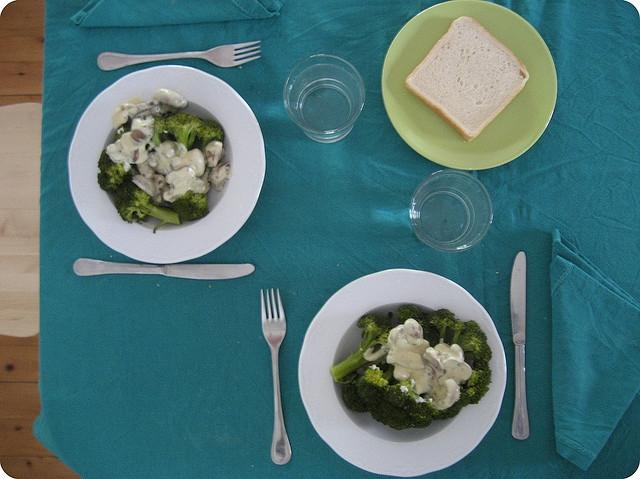broccoli: (330, 314, 392, 382), (114, 172, 181, 233), (370, 380, 441, 430), (356, 364, 394, 406), (164, 111, 204, 148), (461, 358, 492, 404), (342, 370, 373, 414), (98, 150, 128, 194), (172, 190, 210, 222), (427, 309, 456, 342), (198, 119, 225, 148), (397, 304, 428, 327), (388, 376, 400, 386)
mushroom: (111, 95, 158, 129), (386, 348, 426, 381), (147, 141, 187, 174), (437, 358, 472, 386), (171, 148, 206, 176), (432, 380, 462, 410), (131, 168, 157, 197), (166, 166, 196, 189), (203, 140, 226, 168), (155, 89, 188, 108), (403, 318, 424, 346), (422, 347, 446, 371), (388, 324, 410, 349), (132, 130, 147, 142), (133, 148, 139, 162)
